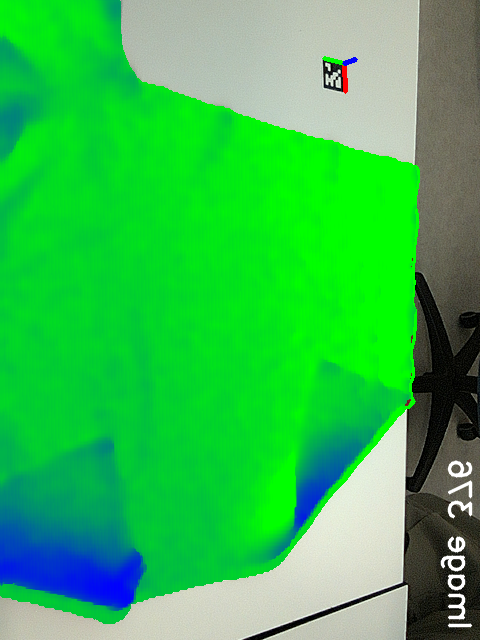V: (71, 429, 141, 475), (305, 349, 362, 396)
